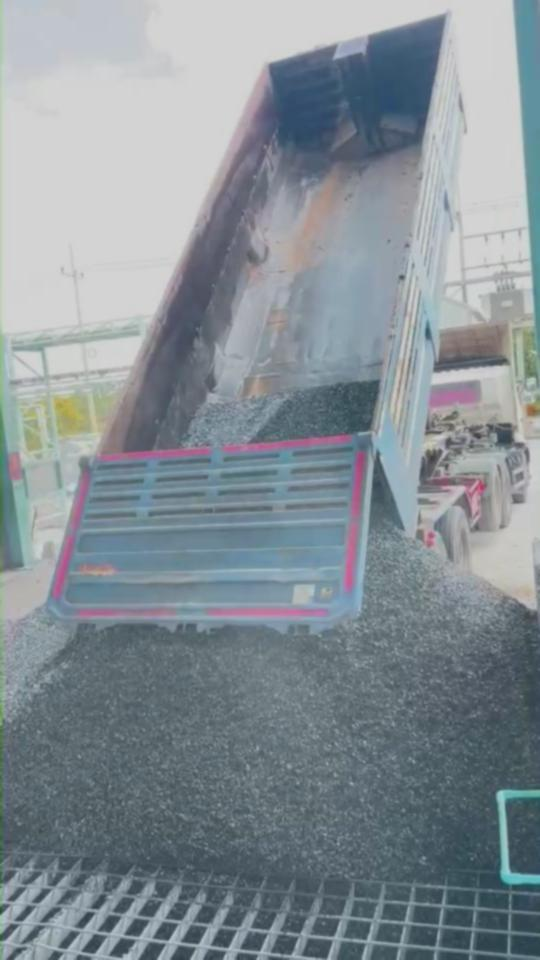gravel: (4, 515, 540, 876), (179, 381, 378, 446), (2, 607, 71, 720), (507, 797, 540, 874)
